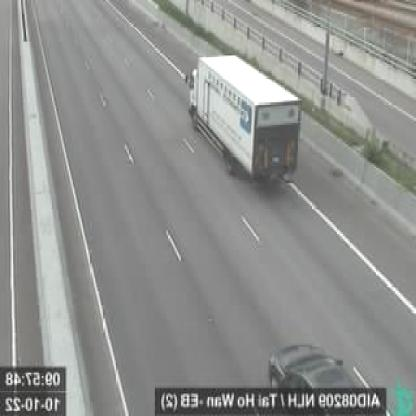Car: (264, 340, 384, 415)
Truck: (186, 50, 300, 188)
